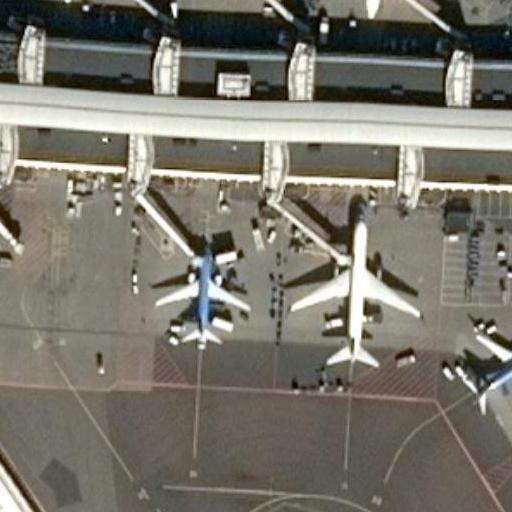Aircraft: (285, 215, 421, 373), (151, 238, 254, 350), (456, 322, 512, 418), (288, 0, 458, 27), (0, 0, 157, 7)
